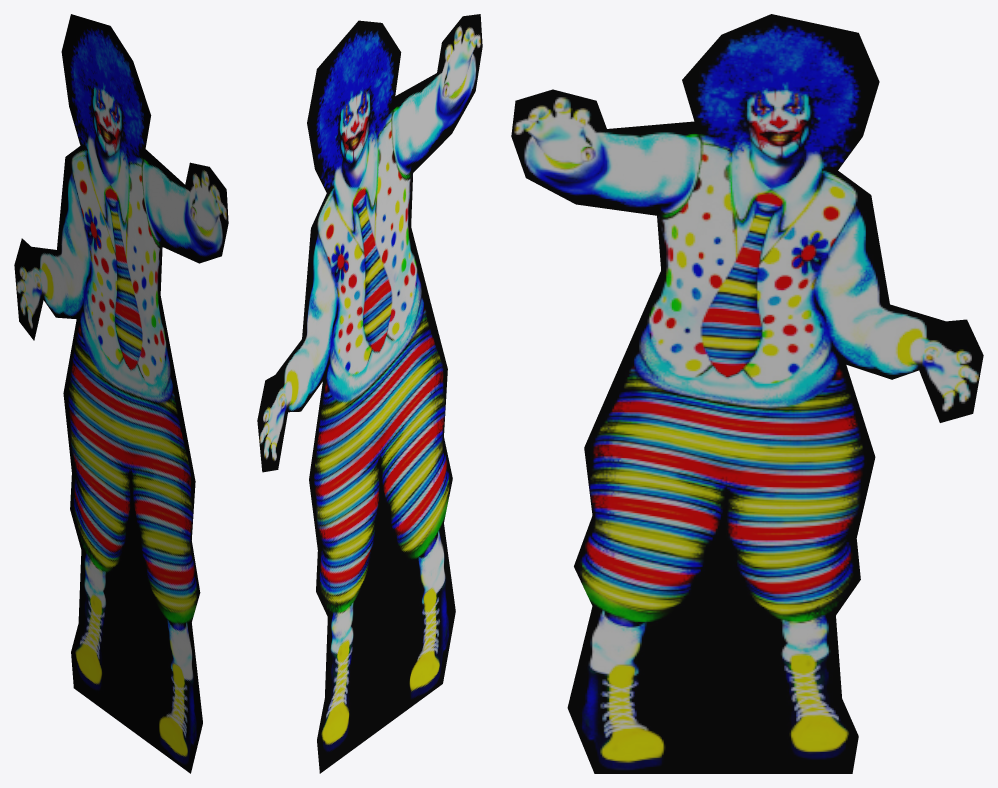
File: monster-clown.obj
3 renders of one model, left to right at view 1: azimuth 30°, elevation 25°; view 2: azimuth 150°, elevation 25°; view 3: azimuth 270°, elevation 25°, orthographic. The views are drawn at different scales.
Visible parts, largest first — view 1: Plane.001_Plane.007; view 2: Plane.001_Plane.007; view 3: Plane.001_Plane.007.
Boxes of the visible parts, x1,y1,x2,y2 form: Plane.001_Plane.007: (14,14,228,773); Plane.001_Plane.007: (257,14,482,773); Plane.001_Plane.007: (511,14,983,773).
Size of the model in its own units: 0 by 4.88 by 2.75.
Materials: 1 (1 with a texture image).
